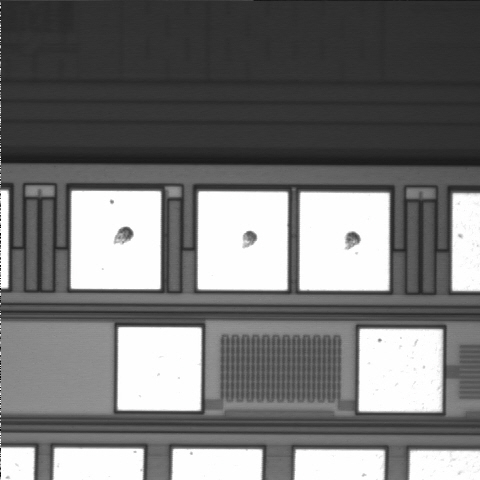pad: (198, 191, 288, 290), (71, 191, 161, 289), (300, 192, 389, 291), (118, 327, 201, 411), (359, 329, 442, 412)
